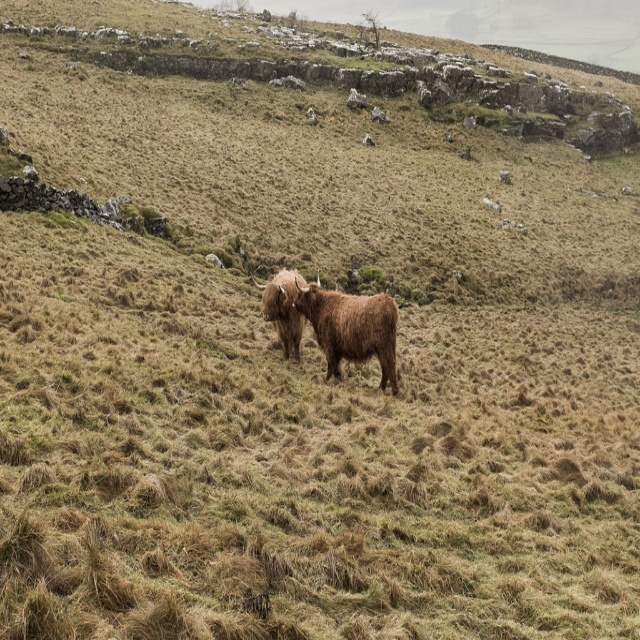Cattle: (293, 267, 399, 397), (250, 266, 308, 361)
